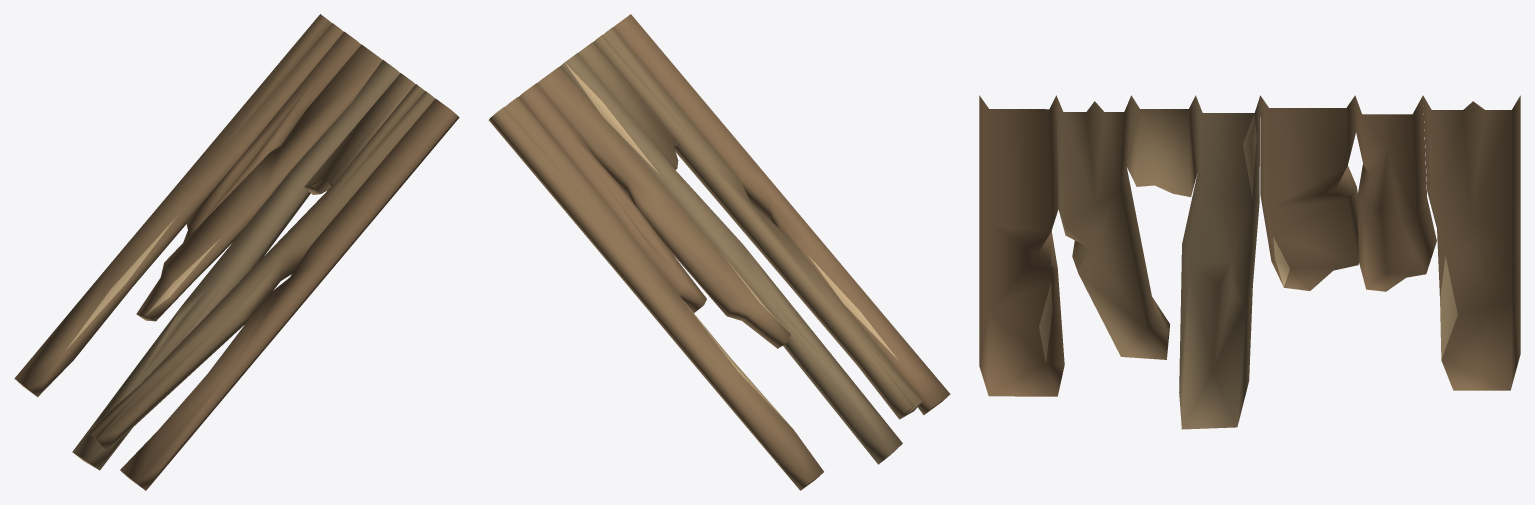
Rendered from rpgpp_av_roof_02_6x3x3_half_a.gltf.
The picture shows the model from 3 angles, left to right: view 1: azimuth 30°, elevation 25°; view 2: azimuth 150°, elevation 25°; view 3: azimuth 270°, elevation 25°; orthographic projection. The views are drawn at different scales.
Parts seen in each view (by area): view 1: rpgpp_av_roof_02_6x3x3_half_a; view 2: rpgpp_av_roof_02_6x3x3_half_a; view 3: rpgpp_av_roof_02_6x3x3_half_a.
Part boxes in pixels (bbox=[...]): rpgpp_av_roof_02_6x3x3_half_a: bbox=[14, 14, 459, 490]; rpgpp_av_roof_02_6x3x3_half_a: bbox=[488, 14, 950, 490]; rpgpp_av_roof_02_6x3x3_half_a: bbox=[979, 95, 1520, 429].
Bounding box in the file's own units: 0.0424 × 0.0397 × 0.03.
1 material, 1 textured.
